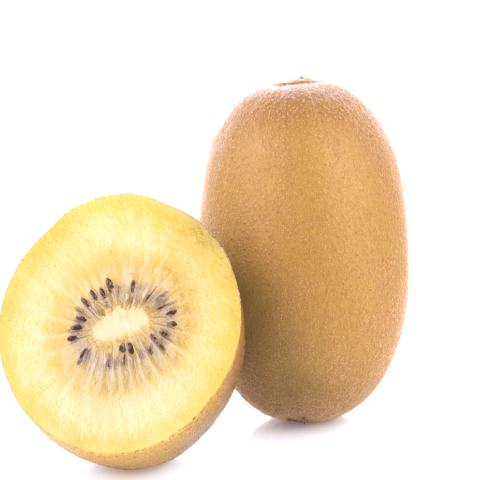kiwi: (164, 63, 448, 463)
